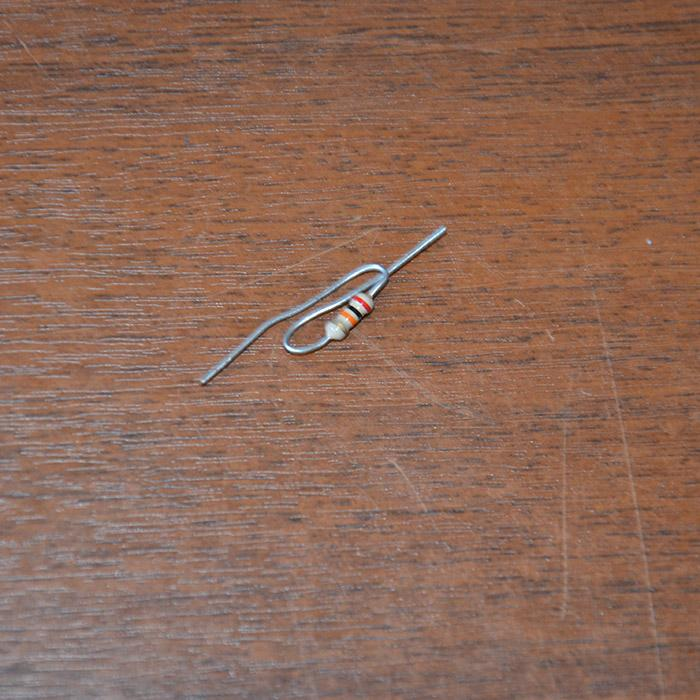resistor: (324, 291, 374, 341)
